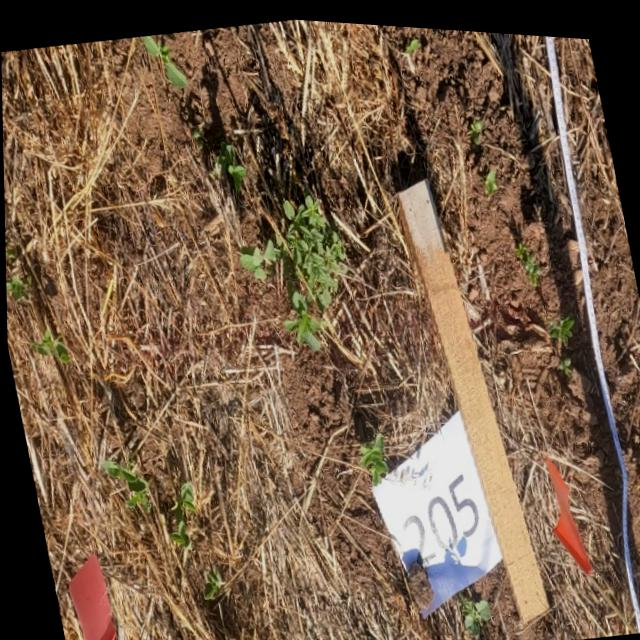caruru_weed: (238, 191, 344, 345)
soy_plant: (100, 459, 146, 510), (141, 33, 186, 85), (168, 480, 192, 544), (357, 428, 386, 479), (215, 139, 245, 187), (4, 245, 30, 298), (29, 328, 65, 361), (513, 235, 538, 280), (548, 308, 573, 336), (200, 563, 221, 596), (467, 112, 484, 136), (483, 162, 497, 187), (404, 33, 420, 48)
